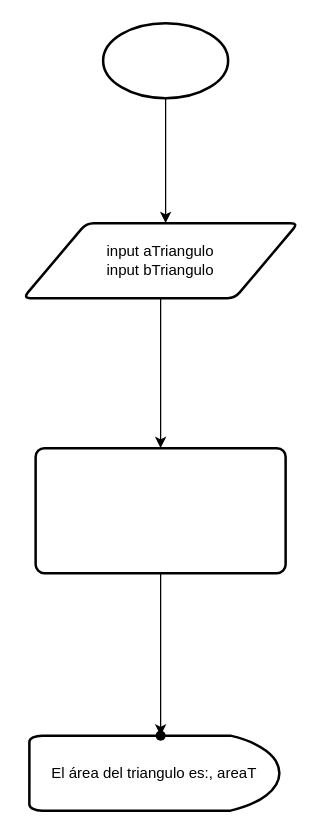
This 320x833 diagram has some shape labels left out. Each missing label, with the centre of its shape:
"areaT = bTrangutlo * aTraiangulo /2" belongs at pixel 160 510.
"inicio" belongs at pixel 165 60.
